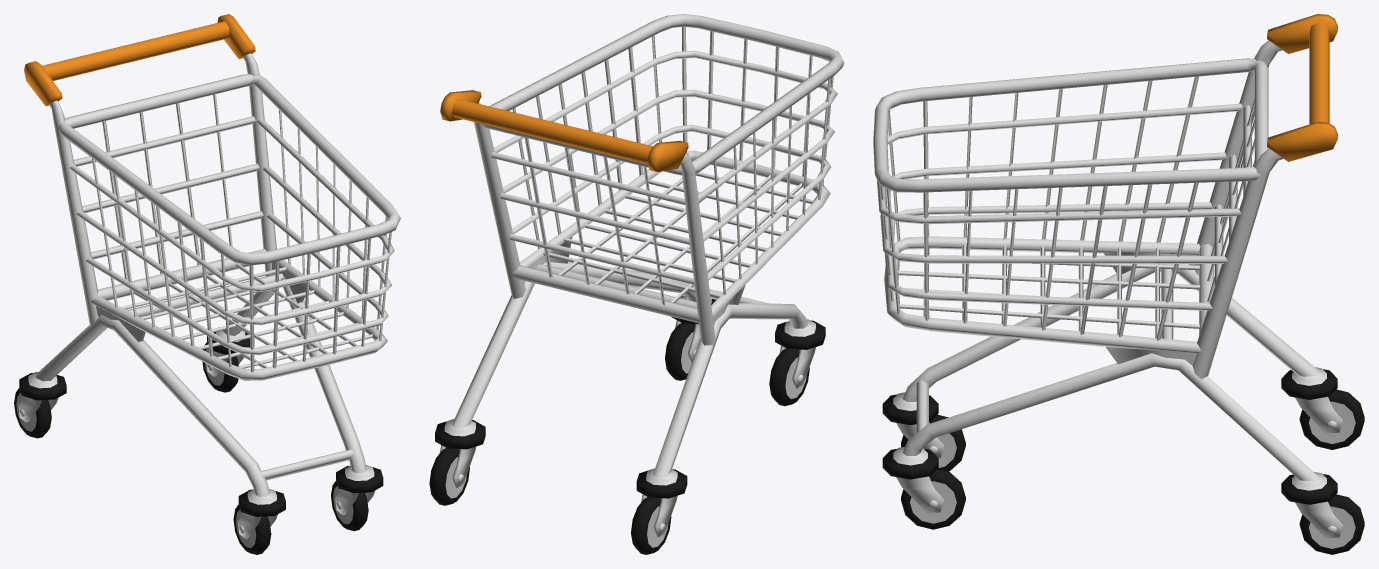
Rendered from ShoppingCart.fbx.
3 renders of one model, left to right at view 1: azimuth 30°, elevation 25°; view 2: azimuth 150°, elevation 25°; view 3: azimuth 270°, elevation 25°, orthographic. The views are drawn at different scales.
Visible parts, largest first — view 1: Cart; view 2: Cart; view 3: Cart.
Part boxes in pixels (<box>): Cart: <box>14,14,400,554</box>; Cart: <box>429,14,844,554</box>; Cart: <box>873,14,1364,554</box>.
Size of what is drawn, in the model's own units: 64.75 by 105 by 101.
